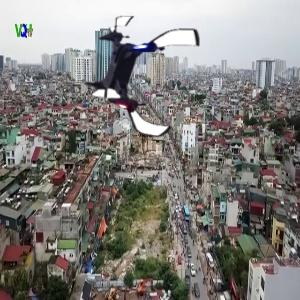drone: (79, 14, 207, 142)
